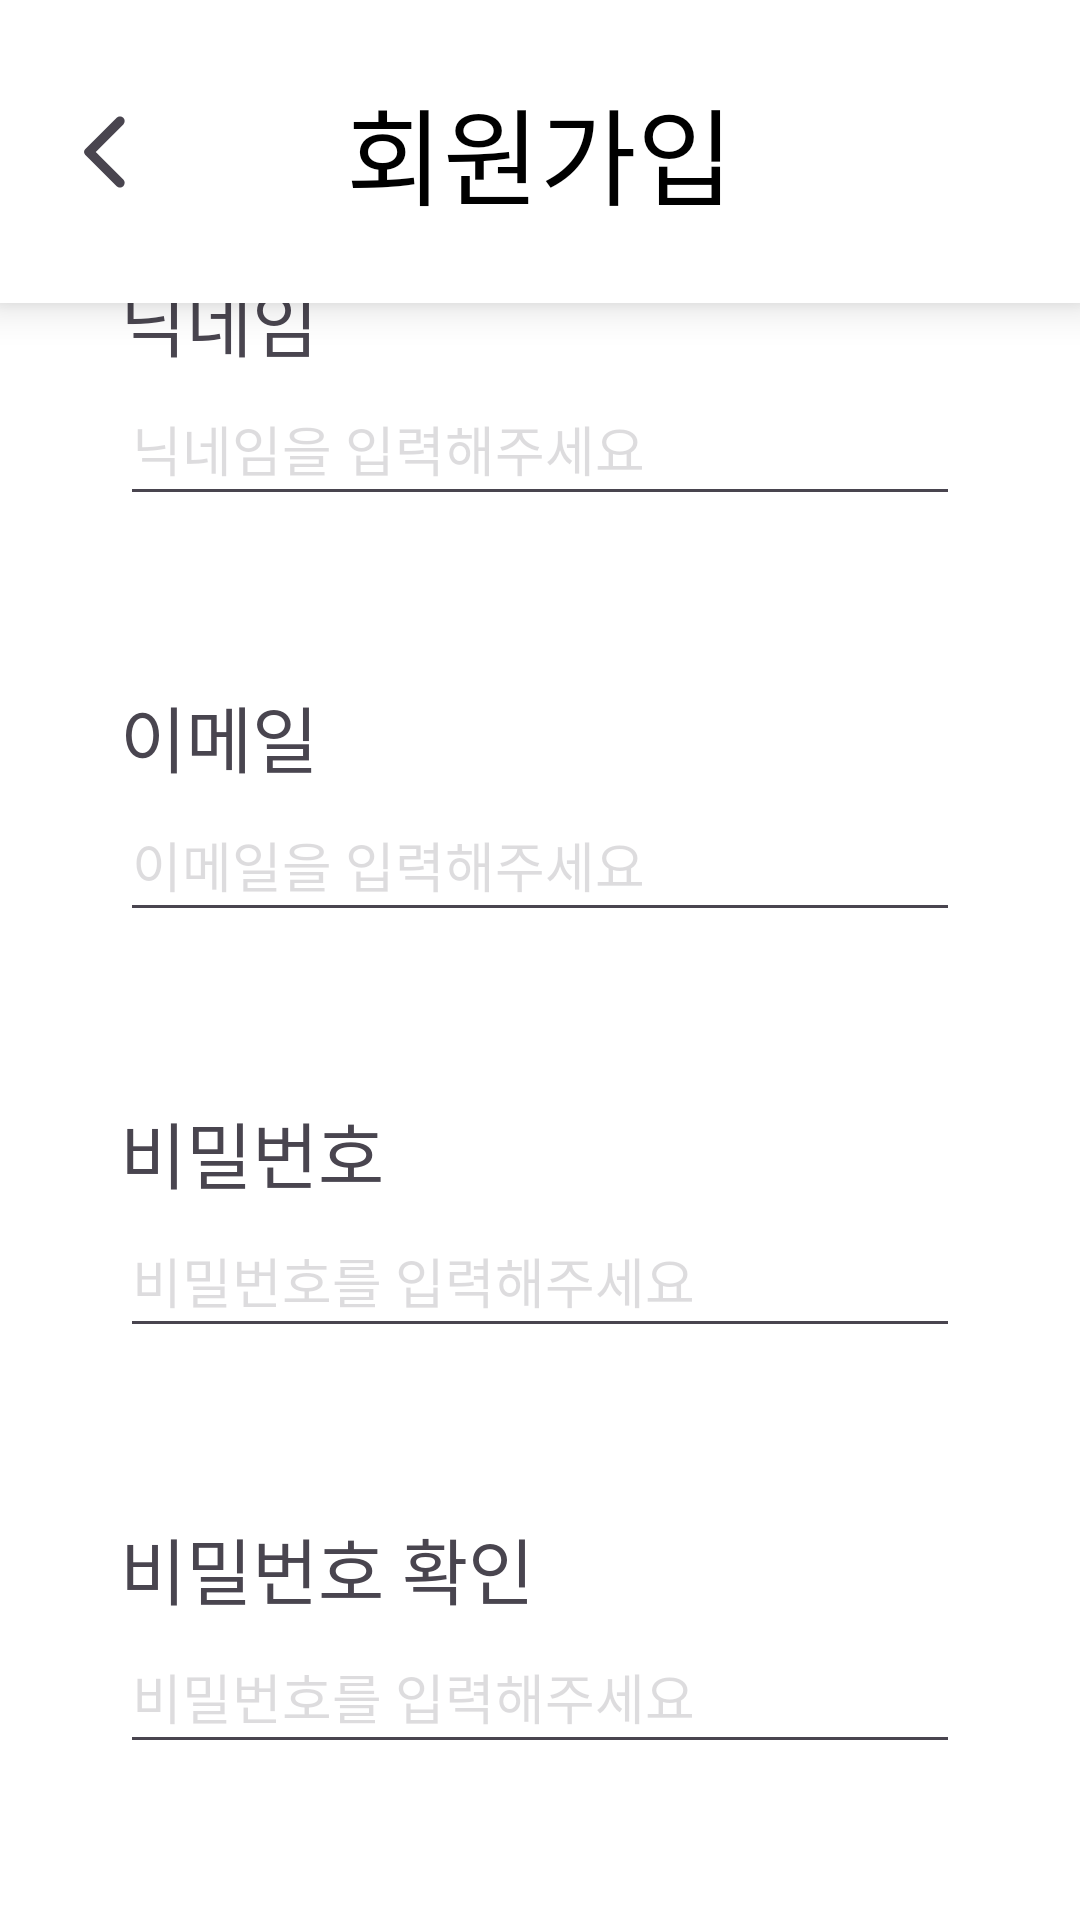

Named icons in this screenshot (1080w x 1920h) and their bounding boxes, (x1, y1, x2, y2):
back: (84, 116, 125, 188)
